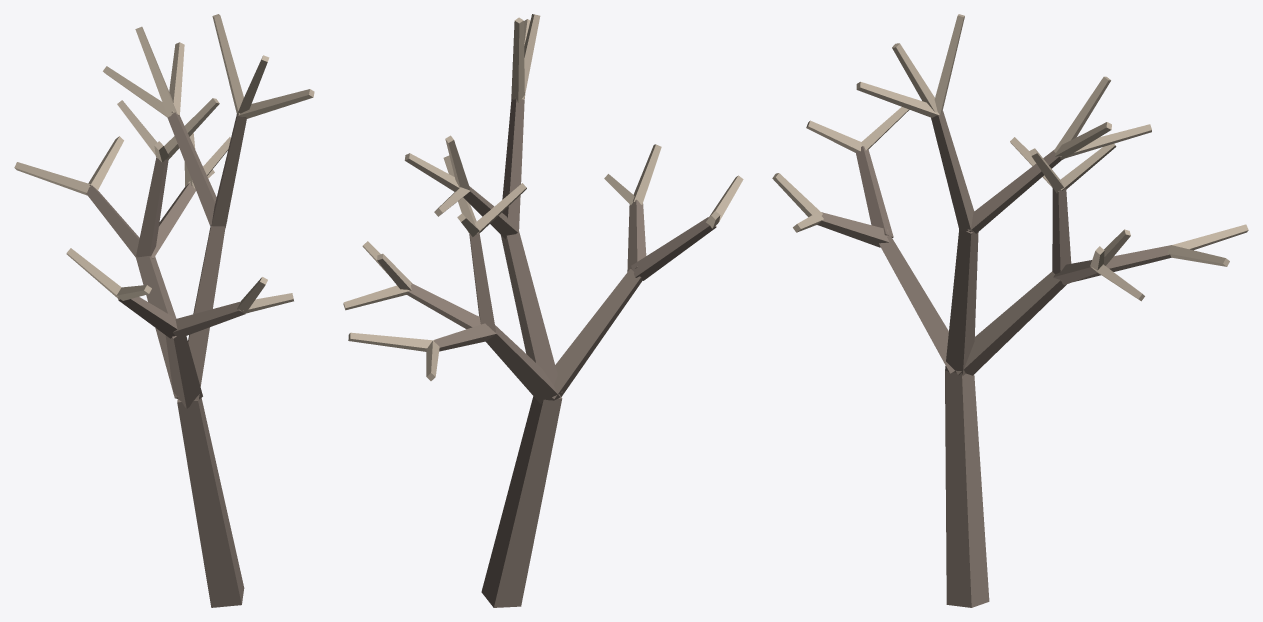
The model's file is bush_dead_b.glb.
3 renders of one model, left to right at view 1: azimuth 30°, elevation 25°; view 2: azimuth 150°, elevation 25°; view 3: azimuth 270°, elevation 25°, orthographic.
Visible parts, largest first — view 1: BushDeadB; view 2: BushDeadB; view 3: BushDeadB.
Part boxes in pixels (x1,y1,x2,y2): BushDeadB: (14,14,314,607); BushDeadB: (343,14,743,607); BushDeadB: (772,14,1248,607).
Bounding box in the file's own units: 0.4044 × 0.8641 × 0.637.
